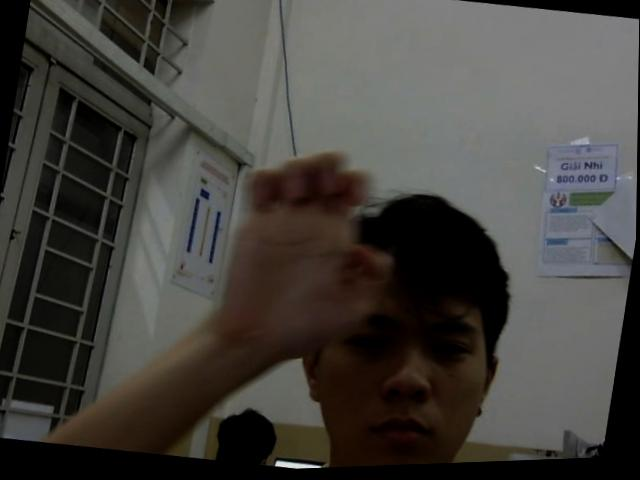E: (215, 137, 407, 360)
